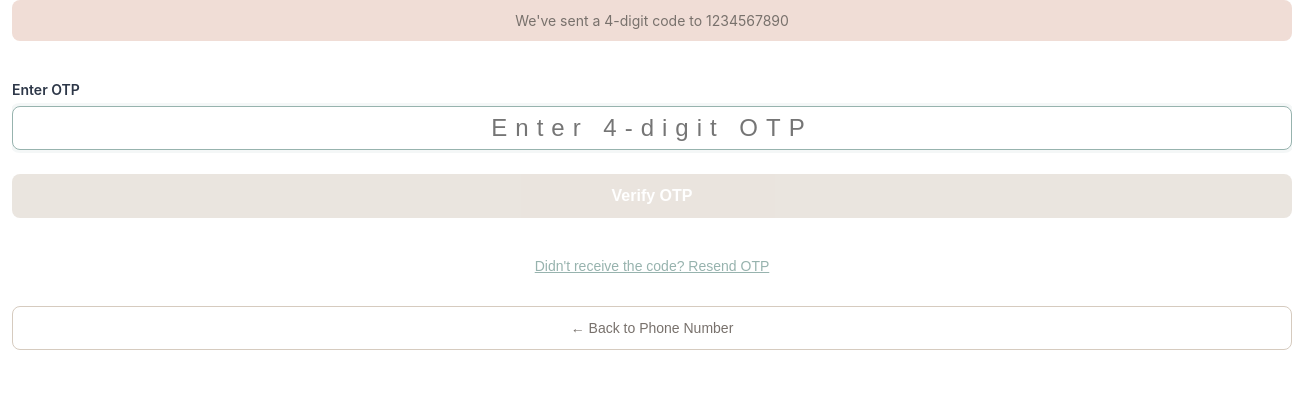
Test: OTPForm Component › should show remaining attempts on incorrect OTP
Step 1. Type "1111" into the field labelled "Enter OTP" → (652, 128), box [12,106,1292,150]
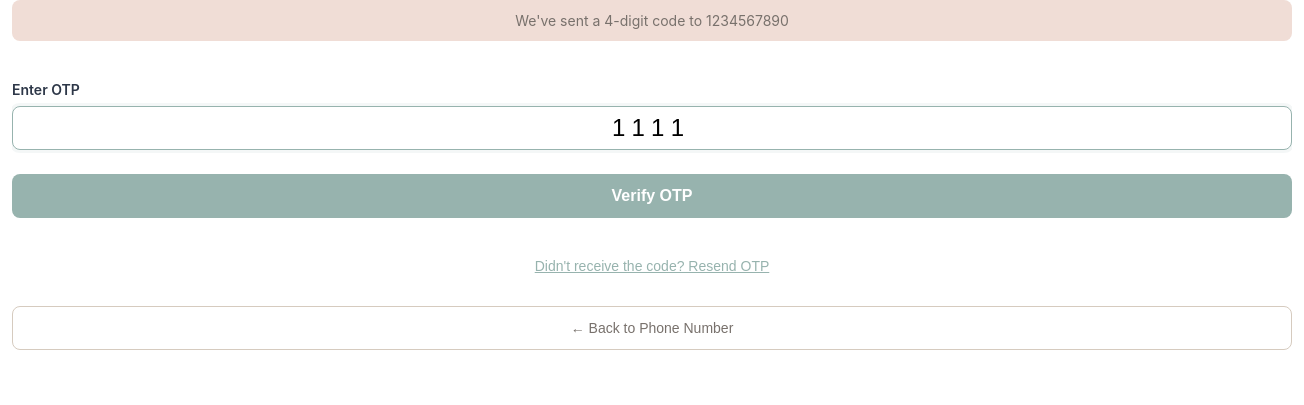
Step 2. Click the button "Verify OTP" → (652, 196), box [12,174,1292,218]
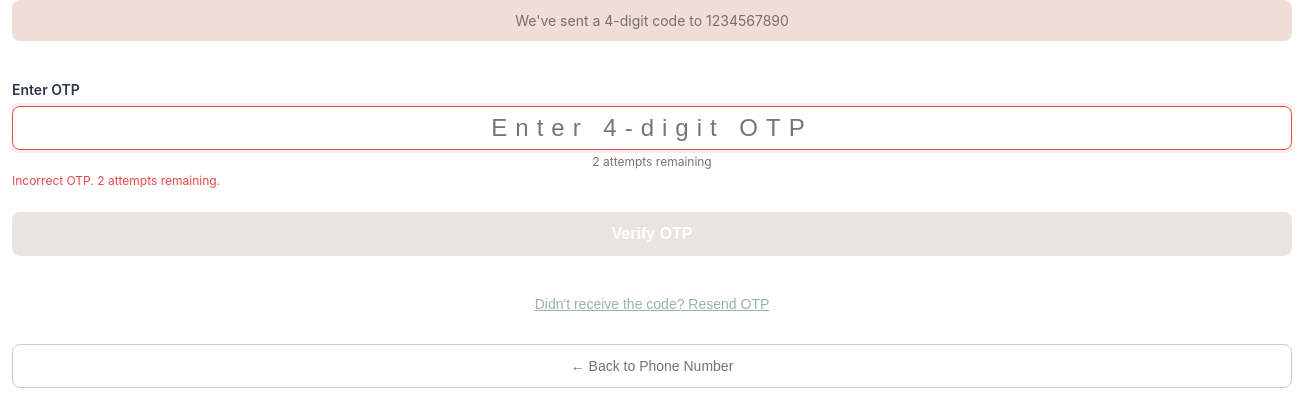
Expected: the text "2 attempts remaining" is shown, [592,154,712,169]
